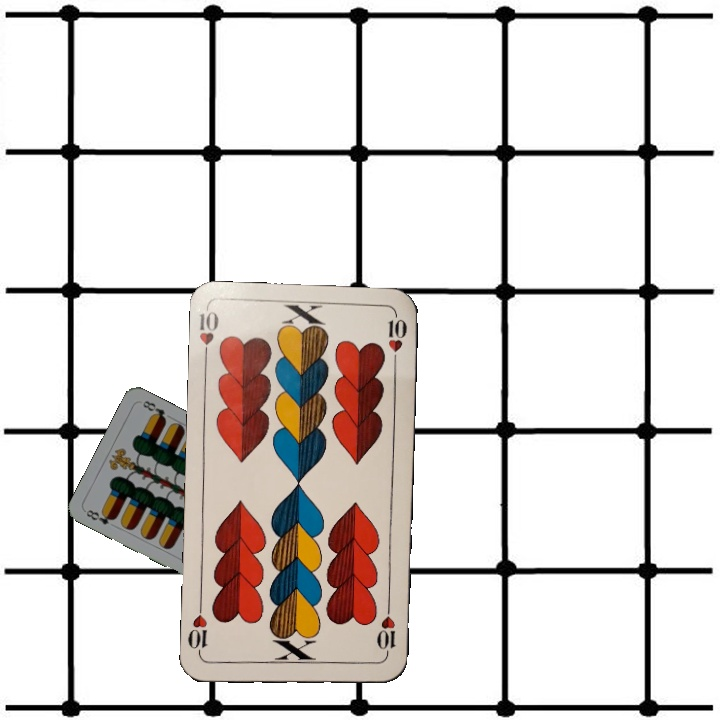E8: (82, 505, 119, 527)
H10: (373, 601, 398, 660), (196, 306, 221, 365)
